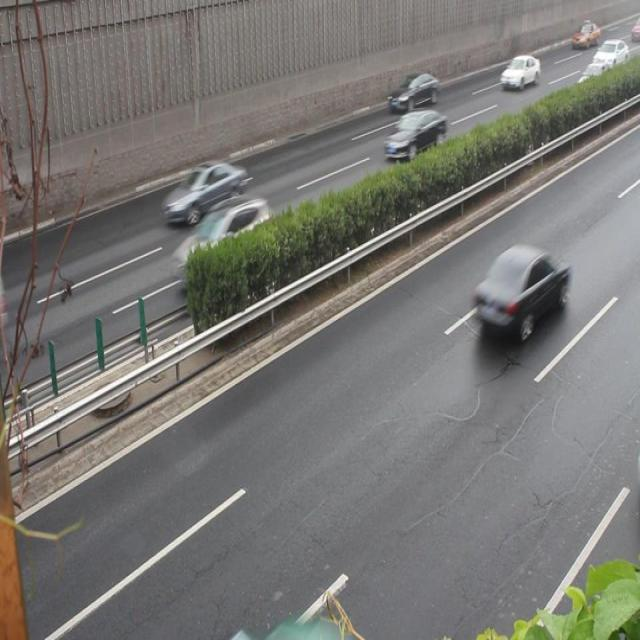car: (170, 200, 278, 289), (470, 244, 568, 336), (163, 162, 246, 225), (384, 110, 446, 160), (388, 72, 438, 111), (498, 55, 539, 90)
